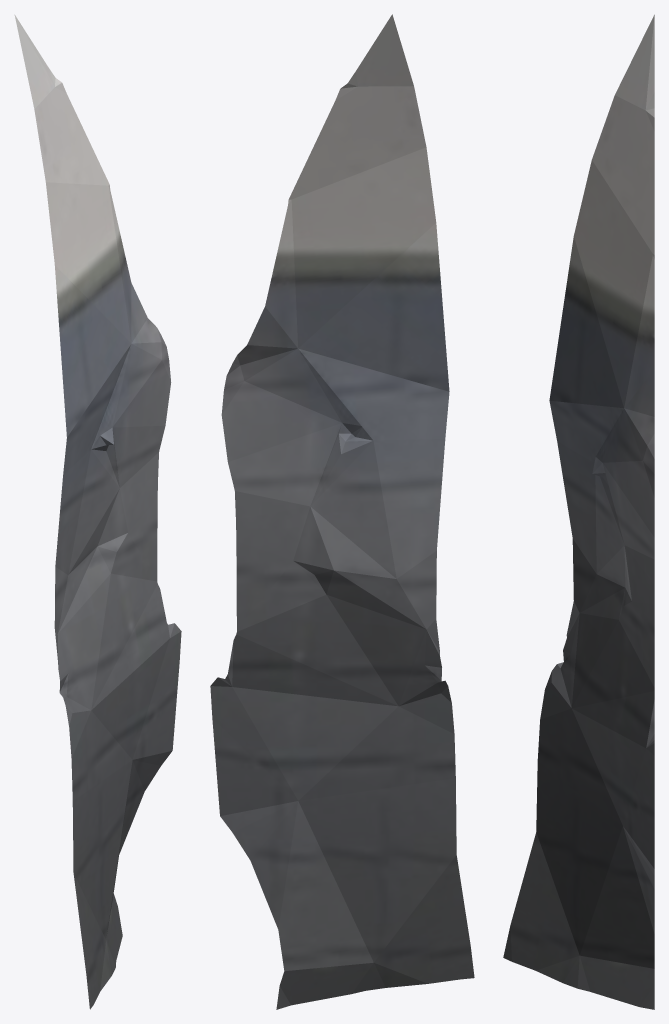
3 renders of one model, left to right at view 1: azimuth 30°, elevation 25°; view 2: azimuth 150°, elevation 25°; view 3: azimuth 270°, elevation 25°, orthographic. The views are drawn at different scales.
Bounding box in the file's own units: 1.37 × 7.35 × 1.07.
Materials: 1 (1 with a texture image).
